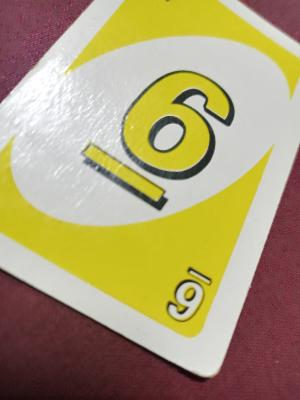num_6: (77, 39, 243, 219), (125, 244, 236, 324)
